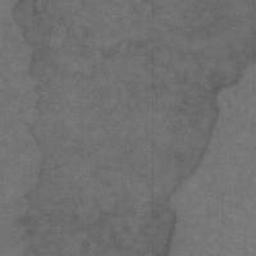Water spot: (12, 0, 256, 256)
